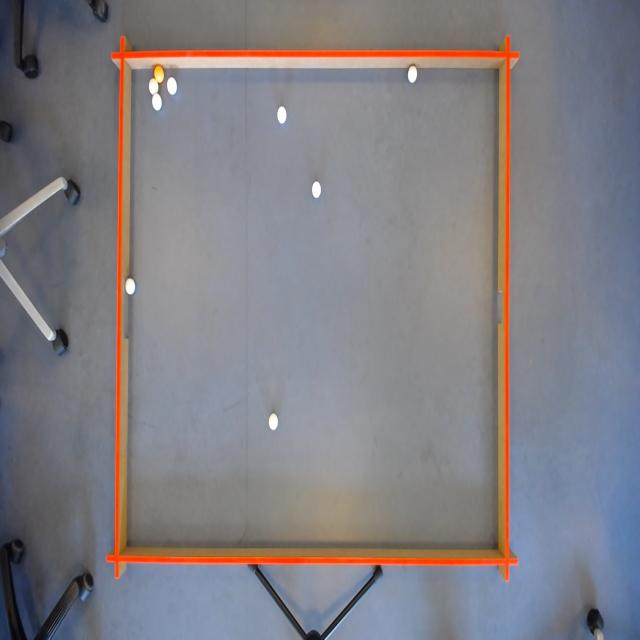orange_ball: (154, 63, 164, 84)
white_ball: (124, 276, 137, 298), (166, 75, 179, 96), (311, 178, 323, 200), (267, 411, 279, 433), (276, 104, 288, 125), (151, 93, 163, 113), (407, 64, 418, 85), (147, 77, 158, 97)
